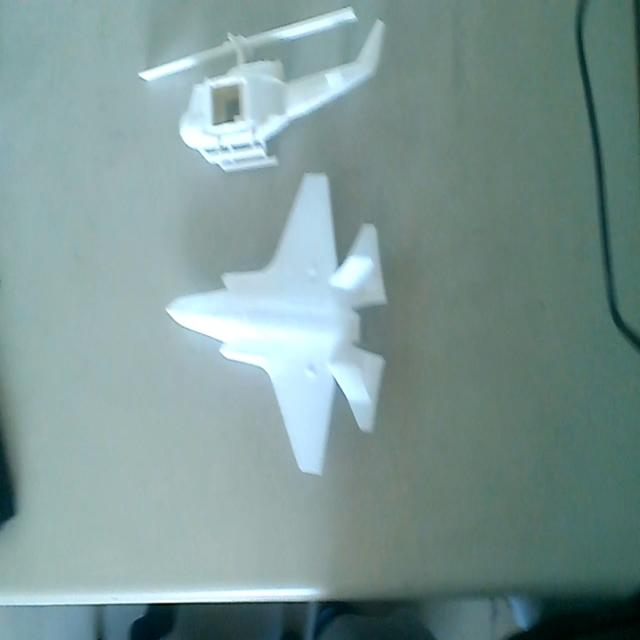Helicopter: (132, 7, 386, 181)
Jet: (166, 167, 386, 477)
